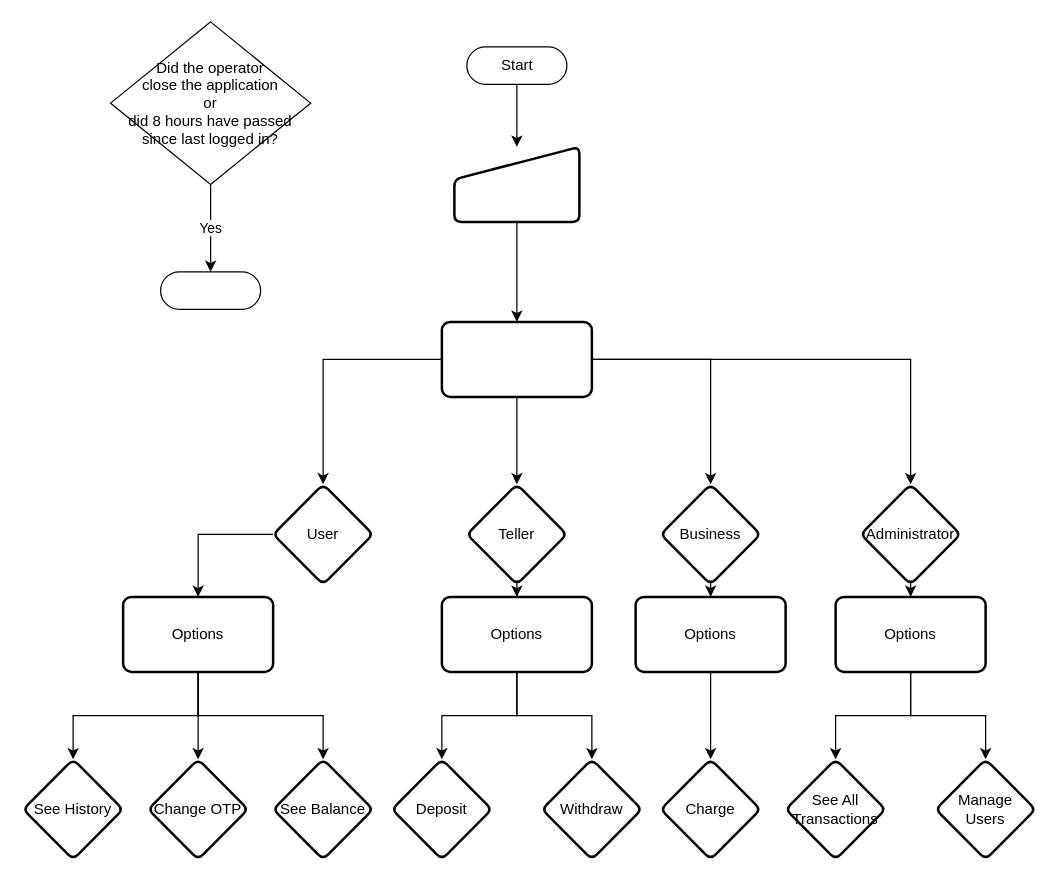
The diagram is 1058 pixels wide and 883 high, and some of its shapes have lost their labels. Each missing label, with the centre of its shape:
"End" goes at (210,290).
"Login" goes at (516,183).
"Which userType does the user belong to" goes at (516,359).
